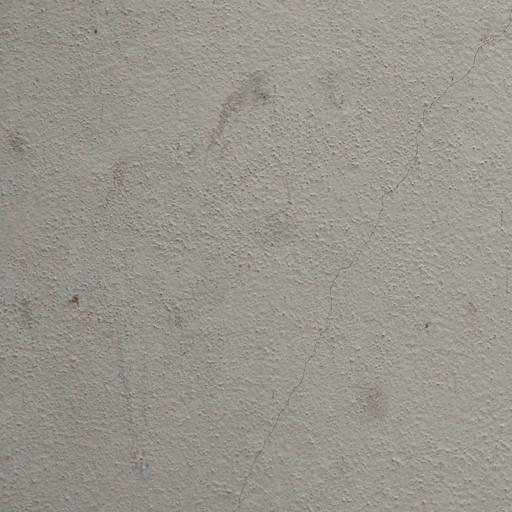minor_crack: (223, 20, 512, 512)
